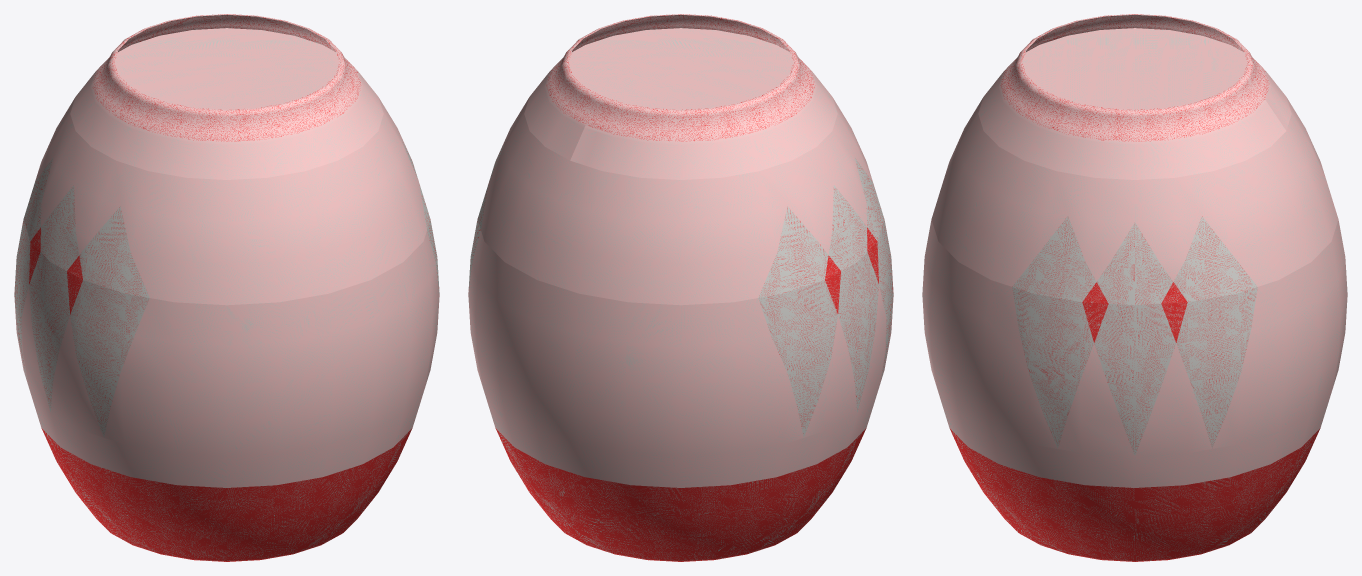
The model's file is original-3.obj.
3 renders of one model, left to right at view 1: azimuth 30°, elevation 25°; view 2: azimuth 150°, elevation 25°; view 3: azimuth 270°, elevation 25°, orthographic.
Visible parts, largest first — view 1: mesh22/mesh22-geometry#mesh22-geometry; view 2: mesh22/mesh22-geometry#mesh22-geometry; view 3: mesh22/mesh22-geometry#mesh22-geometry.
Part boxes in pixels (x1,y1,x2,y2): mesh22/mesh22-geometry#mesh22-geometry: [14, 14, 439, 561]; mesh22/mesh22-geometry#mesh22-geometry: [468, 14, 893, 561]; mesh22/mesh22-geometry#mesh22-geometry: [922, 14, 1347, 561].
Size of the model in its own units: 0.9541 by 1.1 by 0.9541.
